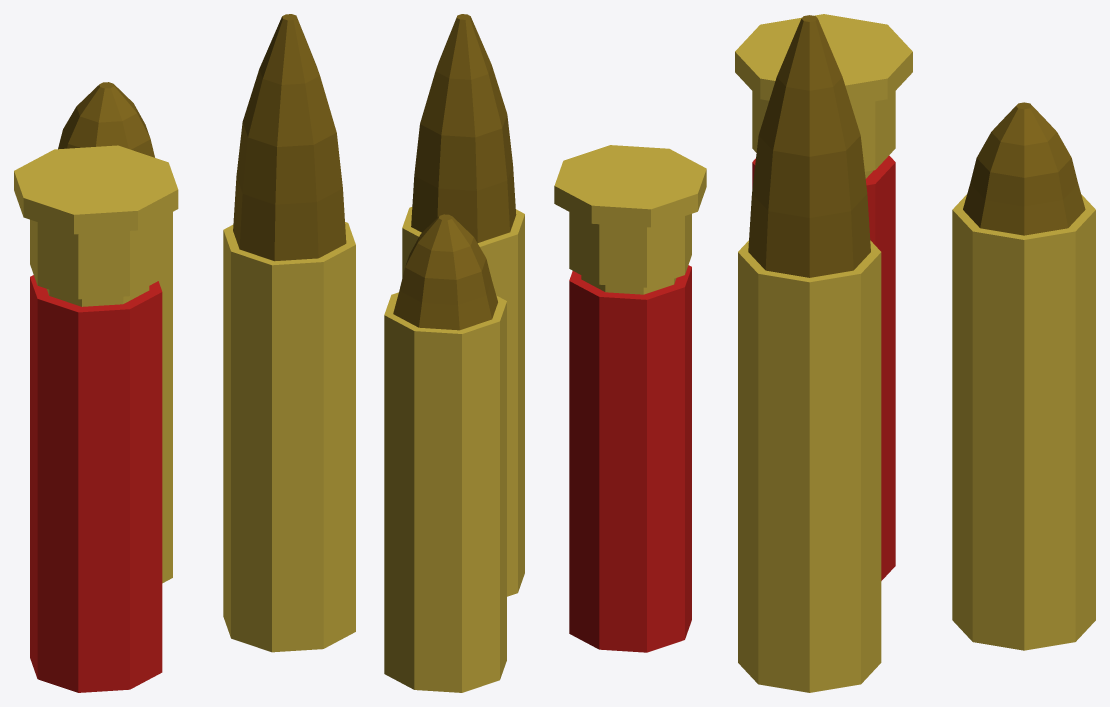
Rendered from Ammo.fbx.
The picture shows the model from 3 angles, left to right: view 1: azimuth 30°, elevation 25°; view 2: azimuth 150°, elevation 25°; view 3: azimuth 270°, elevation 25°; orthographic projection. The views are drawn at different scales.
Visible parts, largest first — view 1: Ammo; view 2: Ammo; view 3: Ammo.
Part boxes in pixels (x1,y1,x2,y2): Ammo: (14, 14, 355, 692); Ammo: (384, 14, 706, 692); Ammo: (735, 14, 1095, 692).
Size of the model in its own units: 0.2724 by 0.4968 by 0.2524.
